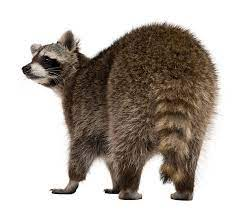raccoon: (21, 22, 220, 201)
